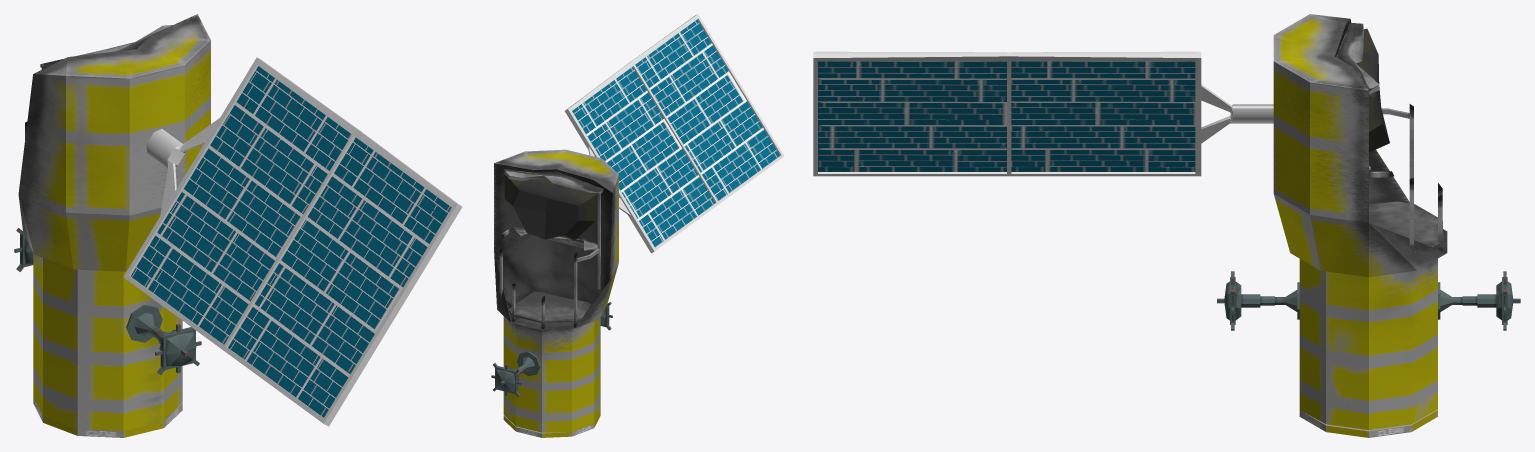
Rendered from Destroyed Satellite.fbx.
3 renders of one model, left to right at view 1: azimuth 30°, elevation 25°; view 2: azimuth 150°, elevation 25°; view 3: azimuth 270°, elevation 25°, orthographic. The views are drawn at different scales.
Parts seen in each view (by area): view 1: SolarPanel1, MissileBay, Booster, Base, Satellite_Interior_Base_Top; view 2: SolarPanel1, MissileBay, Satellite_Power_Unit, Satellite_Interior_Base_Bottom, Booster, Satellite_Interior_Base_Top, Base, Satellite_Interior_Support4, Satellite_Interior_Base_MIddle, Satellite_Interior_Support3; view 3: SolarPanel1, MissileBay, Booster (×2), Satellite_Interior_Base_Bottom, Satellite_Power_Unit, Satellite_Interior_Base_Top, Base.
Part boxes in pixels (left/top/right/bottom): SolarPanel1: left=123, top=57, right=462, bottom=426; MissileBay: left=18, top=14, right=210, bottom=431; Booster: left=126, top=304, right=196, bottom=370; Base: left=33, top=397, right=182, bottom=437; Satellite_Interior_Base_Top: left=40, top=25, right=172, bottom=68; SolarPanel1: left=565, top=14, right=784, bottom=253; MissileBay: left=494, top=149, right=618, bottom=432; Satellite_Power_Unit: left=504, top=174, right=597, bottom=240; Satellite_Interior_Base_Bottom: left=508, top=291, right=591, bottom=323; Booster: left=495, top=351, right=540, bottom=393; Satellite_Interior_Base_Top: left=503, top=169, right=603, bottom=194; Base: left=503, top=411, right=600, bottom=437; Satellite_Interior_Support4: left=597, top=194, right=600, bottom=295; Satellite_Interior_Base_MIddle: left=511, top=226, right=597, bottom=250; Satellite_Interior_Support3: left=574, top=252, right=577, bottom=327; SolarPanel1: left=813, top=51, right=1273, bottom=176; MissileBay: left=1273, top=14, right=1447, bottom=429; Booster (×2): left=1224, top=277, right=1513, bottom=324; Satellite_Interior_Base_Bottom: left=1369, top=201, right=1442, bottom=247; Satellite_Power_Unit: left=1358, top=28, right=1389, bottom=152; Satellite_Interior_Base_Top: left=1336, top=23, right=1379, bottom=94; Base: left=1299, top=409, right=1437, bottom=437.
Bounding box in the file's own units: 0.2755 × 0.5849 × 0.9735.
Materials: 3 (3 with a texture image).
